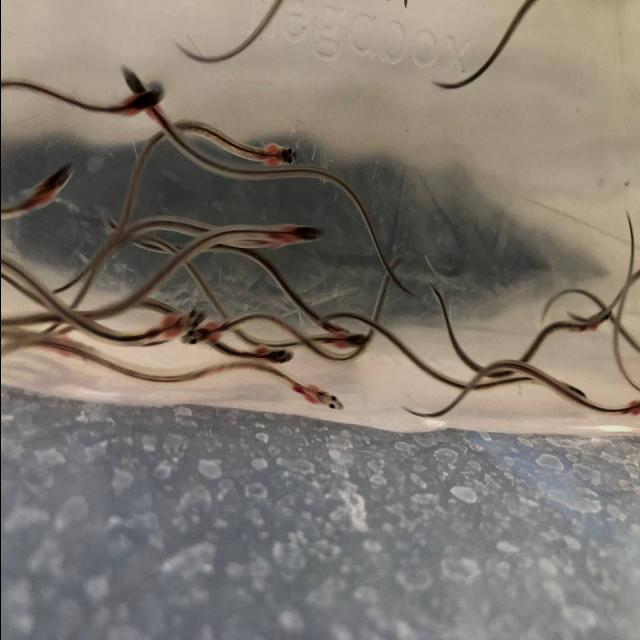glass_eel: (29, 156, 75, 212), (290, 376, 348, 418), (157, 303, 211, 345), (113, 82, 167, 124), (270, 216, 326, 252), (176, 316, 228, 354), (252, 136, 298, 170), (321, 323, 368, 354), (249, 340, 296, 371), (574, 304, 612, 338), (554, 378, 588, 408), (614, 394, 640, 419)
